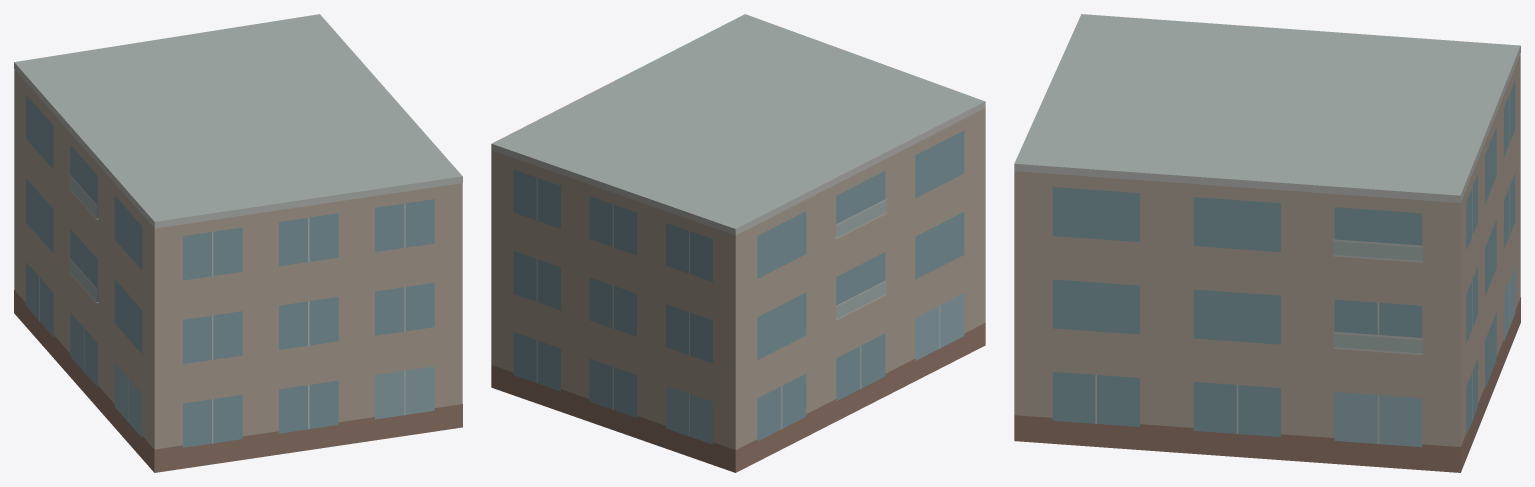
Rendered from survey-upis-32688863.glb.
3 views of the same model, side by side, from view 1: azimuth 30°, elevation 25°; view 2: azimuth 150°, elevation 25°; view 3: azimuth 270°, elevation 25° (orthographic). The views are drawn at different scales.
Parts seen in each view (by area): view 1: survey-upis-32688863.tmp; view 2: survey-upis-32688863.tmp; view 3: survey-upis-32688863.tmp.
Boxes of the visible parts, left/top/right/bottom form: survey-upis-32688863.tmp: left=14, top=14, right=462, bottom=472; survey-upis-32688863.tmp: left=491, top=14, right=985, bottom=472; survey-upis-32688863.tmp: left=1014, top=14, right=1520, bottom=472.
Size of the model in its own units: 12.87 by 9.15 by 15.16.
